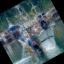fishing boat: (7, 2, 64, 63)
